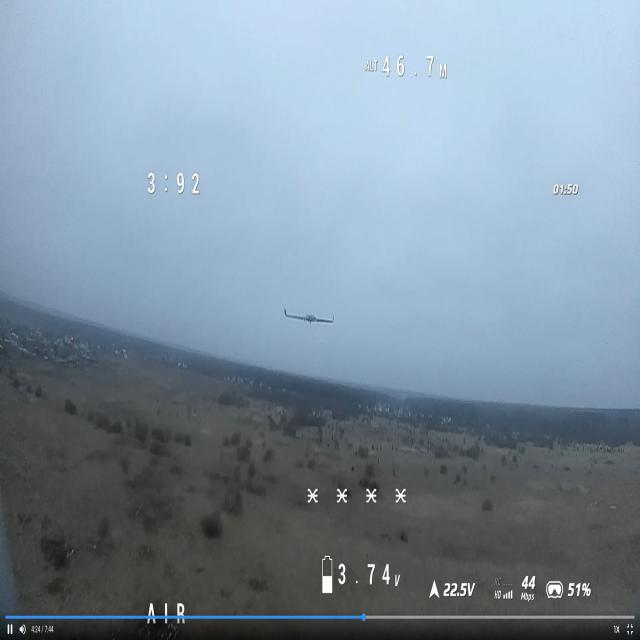planedrone: (282, 300, 336, 329)
